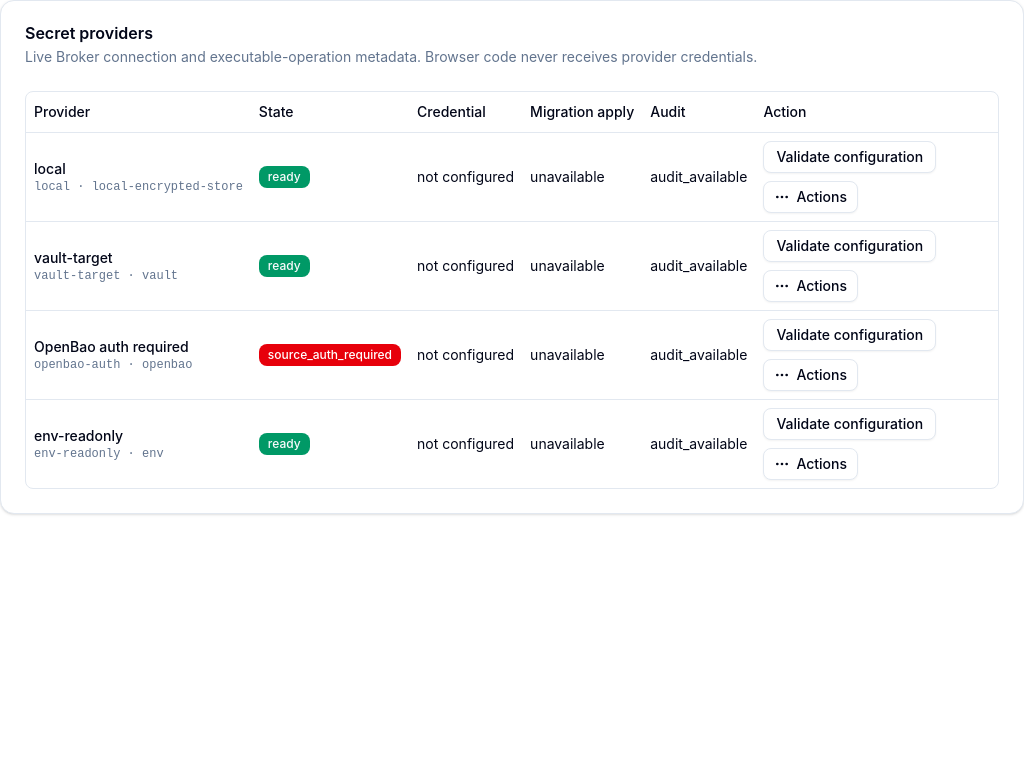
Test: Secrets Broker provider row actions › fails closed with unsupported on a provider without the advertised operation
The width and height of the screenshot is (1024, 768).
Click the 4th button "Actions" at x=811, y=464, box [763,448,858,480]
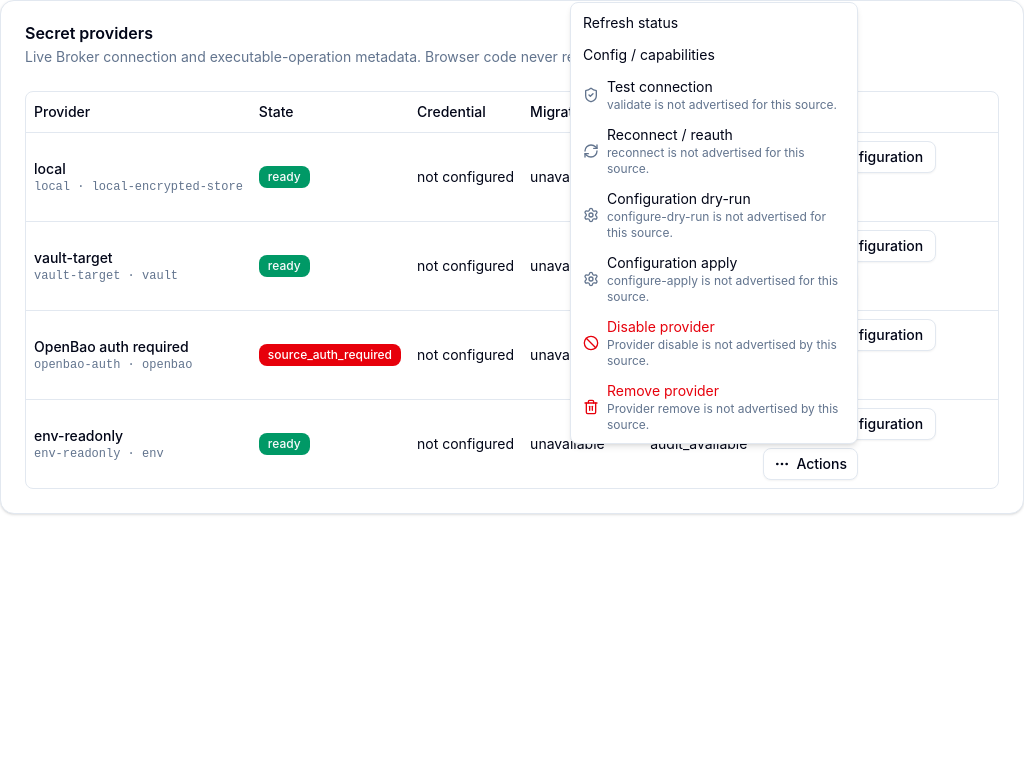
Click the menu item "Test connection validate is not advertised for this source." at x=714, y=95, box [575,71,853,119]
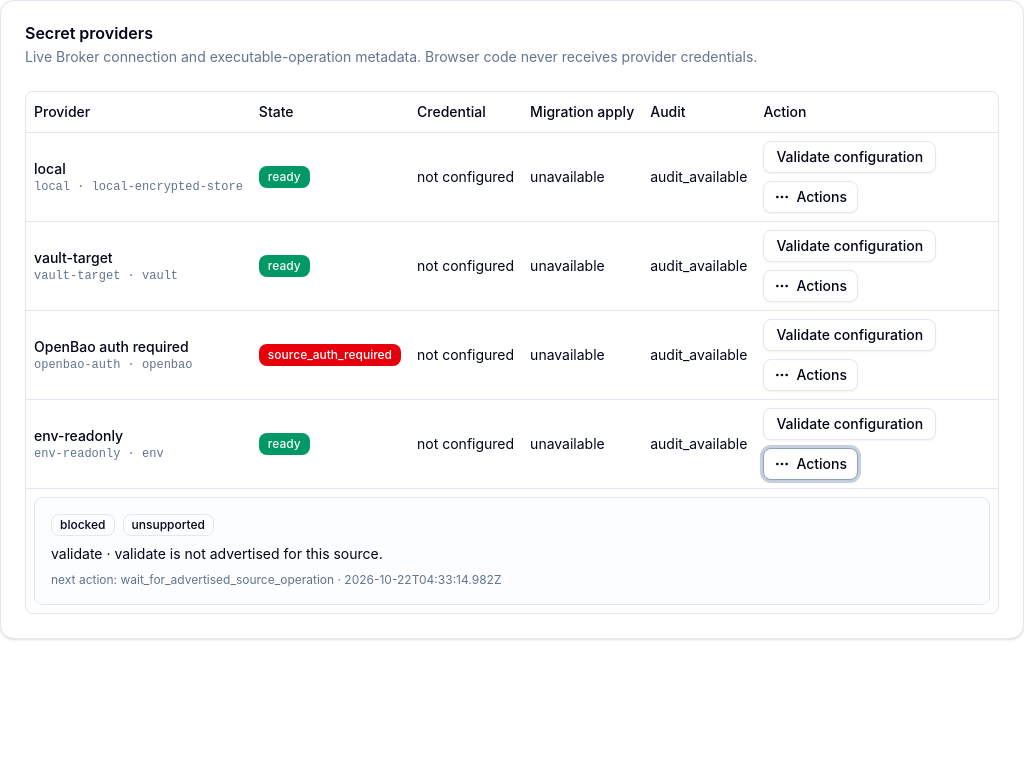
Check: the element with test id "provider-action-result-env-readonly" shows "blocked", box [60,516,106,532]
Check: the element with test id "provider-action-result-env-readonly" shows "unsupported", box [132,516,205,532]
Check: the element with test id "provider-action-result-env-readonly" shows "not advertised", box [114,544,383,562]
